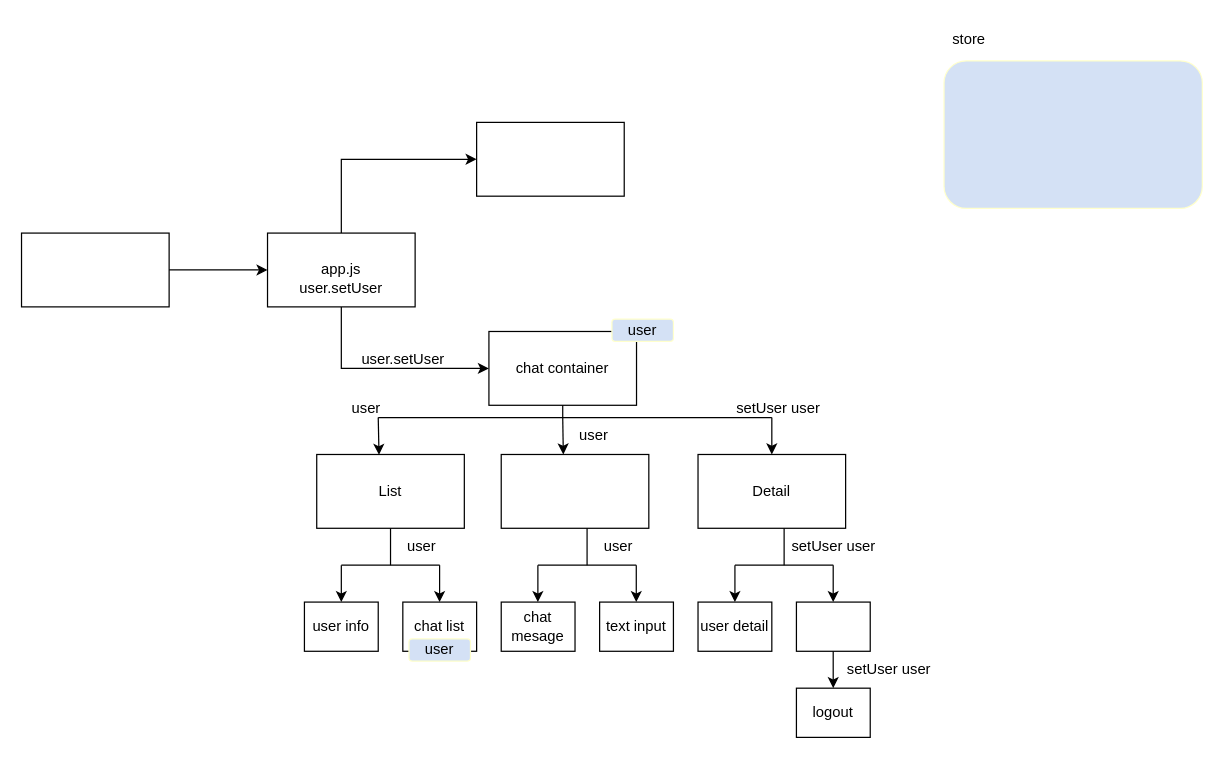
Some shapes in this 1224 by 759 pixel diagram are drawn without their labels. The shapes that lost their labels are listed below. From the top down, each one's centre as x and y in pixels, then its label:
the point at 1072,134: STATE user, setUser
the point at 549,158: login container
the point at 94,269: react app
the point at 574,490: Chat
the point at 832,626: chat detail
